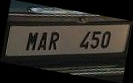character: (24, 31, 38, 50), (47, 30, 60, 50), (36, 30, 48, 51), (78, 30, 90, 49), (89, 29, 101, 48), (99, 30, 111, 48)
